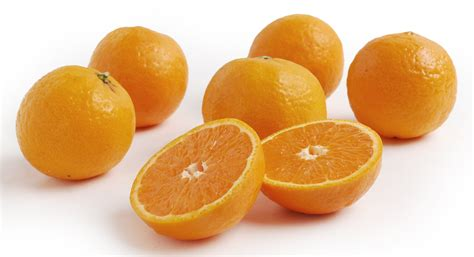orange: (19, 62, 134, 180), (343, 30, 460, 143), (81, 25, 188, 127), (202, 54, 329, 136), (246, 12, 347, 97)
